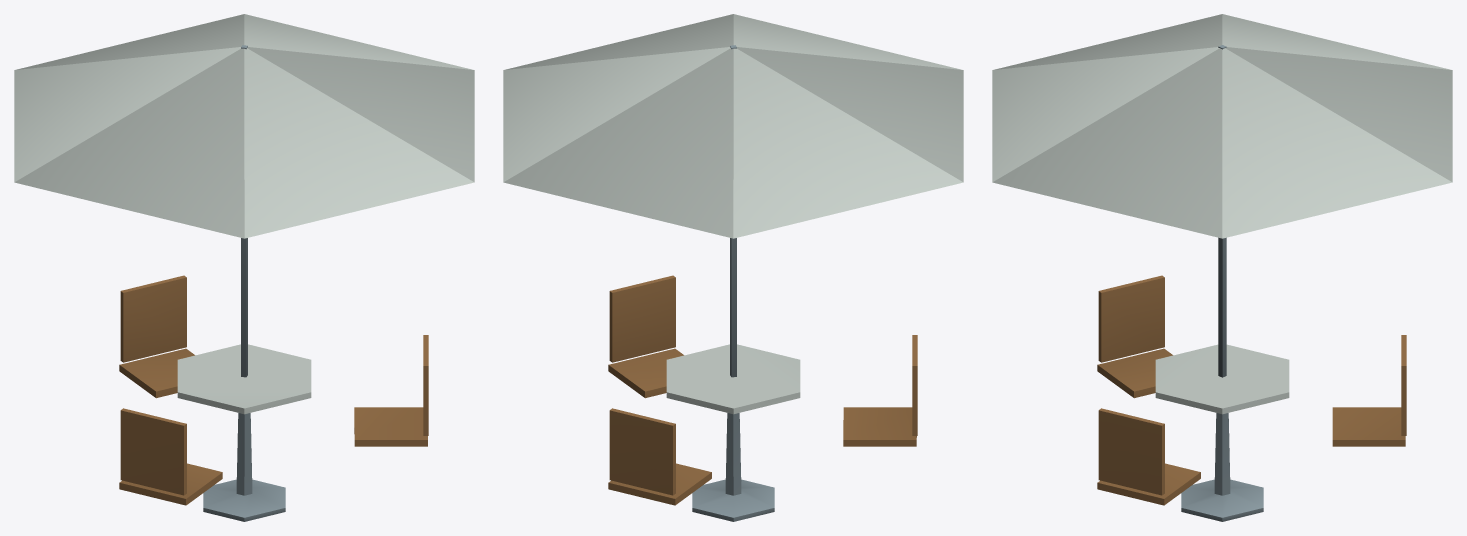
File: cafe-set.lod2.glb
The picture shows the model from 3 angles, left to right: view 1: azimuth 30°, elevation 25°; view 2: azimuth 150°, elevation 25°; view 3: azimuth 270°, elevation 25°; orthographic projection.
Parts seen in each view (by area): view 1: structure; view 2: structure; view 3: structure.
Boxes of the visible parts, x1,y1,x2,y2 form: structure: (14,14,474,521); structure: (503,14,963,521); structure: (992,14,1452,521).
Size of the model in its own units: 2.9 by 2.74 by 2.51.
